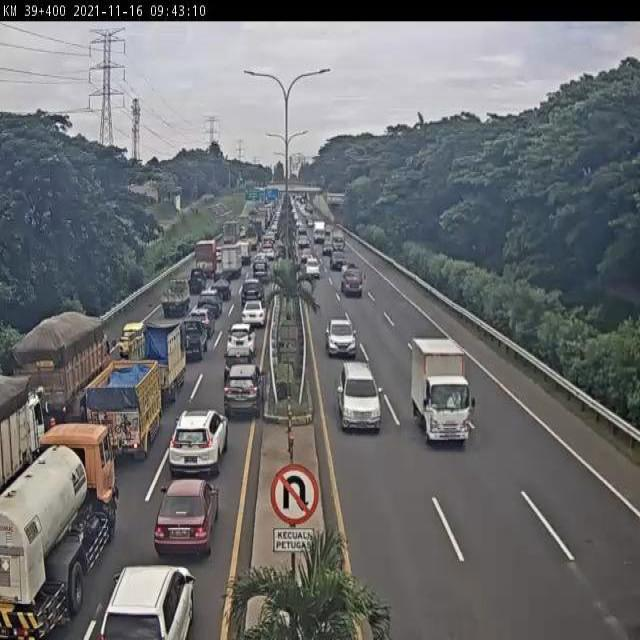ARABA: (156, 478, 220, 558), (171, 409, 229, 476), (336, 361, 382, 431), (223, 365, 266, 420), (324, 318, 359, 358), (223, 347, 255, 382), (226, 322, 257, 358), (182, 319, 208, 361), (240, 298, 266, 330), (121, 323, 147, 352), (188, 309, 215, 335), (196, 291, 222, 316)
KAMYONET: (0, 421, 117, 640), (12, 315, 110, 424), (88, 359, 163, 461), (412, 339, 472, 445), (0, 378, 45, 498), (128, 320, 187, 400), (160, 279, 191, 317), (342, 267, 364, 296)
